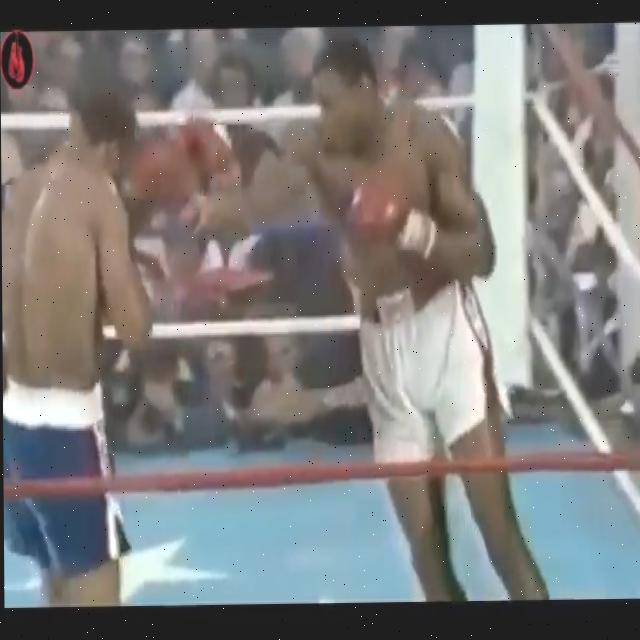Jab: (127, 99, 369, 245)
